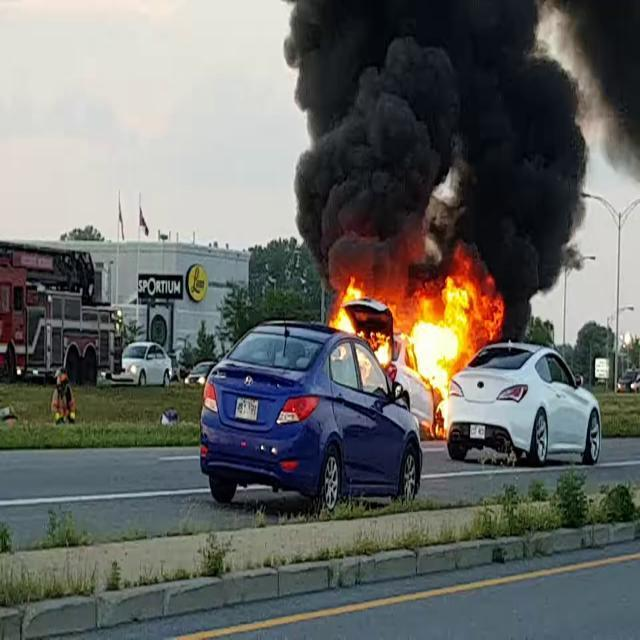Fire: (328, 262, 502, 417)
Smoke: (276, 0, 635, 276)
